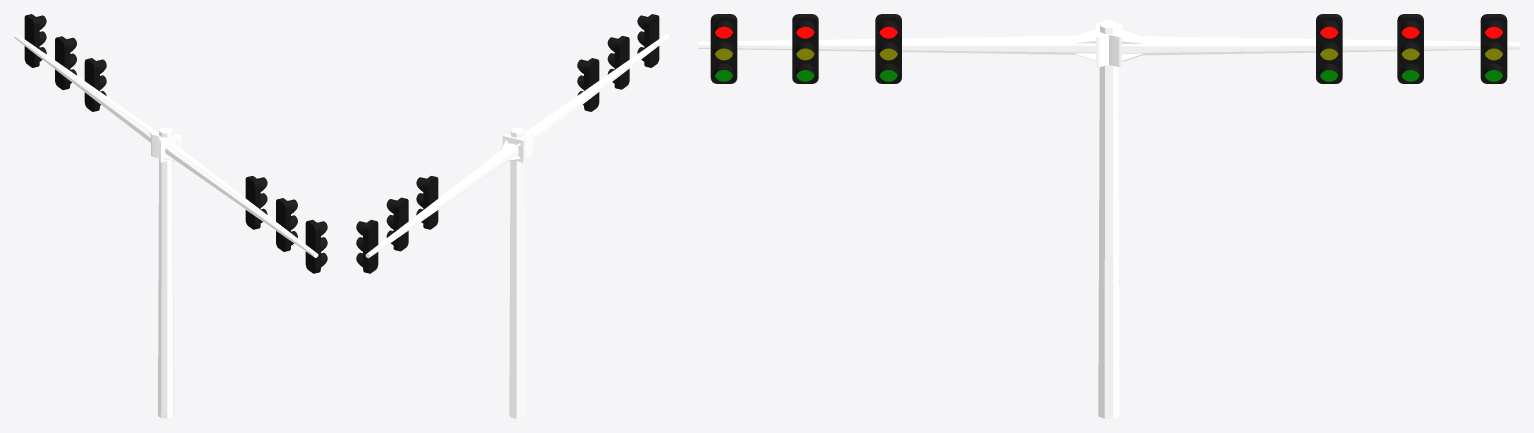
3 renders of one model, left to right at view 1: azimuth 30°, elevation 25°; view 2: azimuth 150°, elevation 25°; view 3: azimuth 270°, elevation 25°, orthographic. The views are drawn at different scales.
Parts seen in each view (by area): view 1: pCylinder11, polySurface34, polySurface67, polySurface42, polySurface73, polySurface38, polySurface60, polySurface1, polySurface70, polySurface55; view 2: pCylinder11, polySurface67, polySurface34, polySurface73, polySurface42, polySurface60, polySurface38, polySurface70, polySurface1, polySurface83; view 3: pCylinder11, polySurface34, polySurface67, polySurface42, polySurface73, polySurface38, polySurface70, polySurface1, polySurface60.
Part boxes in pixels (bbox=[...]): pCylinder11: bbox=[158, 127, 174, 418]; polySurface34: bbox=[163, 139, 318, 257]; polySurface67: bbox=[14, 34, 158, 145]; polySurface42: bbox=[305, 219, 327, 273]; polySurface73: bbox=[24, 14, 46, 67]; polySurface38: bbox=[276, 198, 297, 251]; polySurface60: bbox=[55, 36, 76, 90]; polySurface1: bbox=[245, 176, 267, 229]; polySurface70: bbox=[84, 58, 106, 111]; polySurface55: bbox=[159, 133, 181, 162]; pCylinder11: bbox=[509, 127, 525, 418]; polySurface67: bbox=[365, 140, 520, 258]; polySurface34: bbox=[525, 34, 669, 145]; polySurface73: bbox=[356, 219, 378, 273]; polySurface42: bbox=[637, 14, 659, 67]; polySurface60: bbox=[386, 197, 408, 251]; polySurface38: bbox=[607, 36, 629, 89]; polySurface70: bbox=[416, 176, 438, 229]; polySurface1: bbox=[577, 58, 599, 111]; polySurface83: bbox=[502, 133, 524, 162]; pCylinder11: bbox=[1098, 20, 1119, 418]; polySurface34: bbox=[698, 29, 1095, 61]; polySurface67: bbox=[1122, 30, 1519, 61]; polySurface42: bbox=[710, 14, 737, 83]; polySurface73: bbox=[1480, 14, 1507, 83]; polySurface38: bbox=[792, 14, 818, 83]; polySurface70: bbox=[1316, 14, 1342, 83]; polySurface1: bbox=[875, 14, 901, 83]; polySurface60: bbox=[1397, 14, 1423, 83].
Bounding box in the file's own units: 0.6842 × 6.71 × 12.4.
